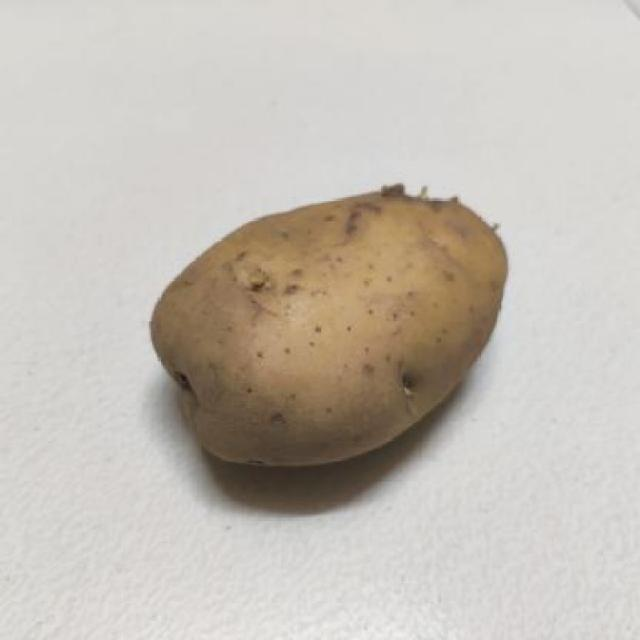Potato: (138, 163, 516, 492)
